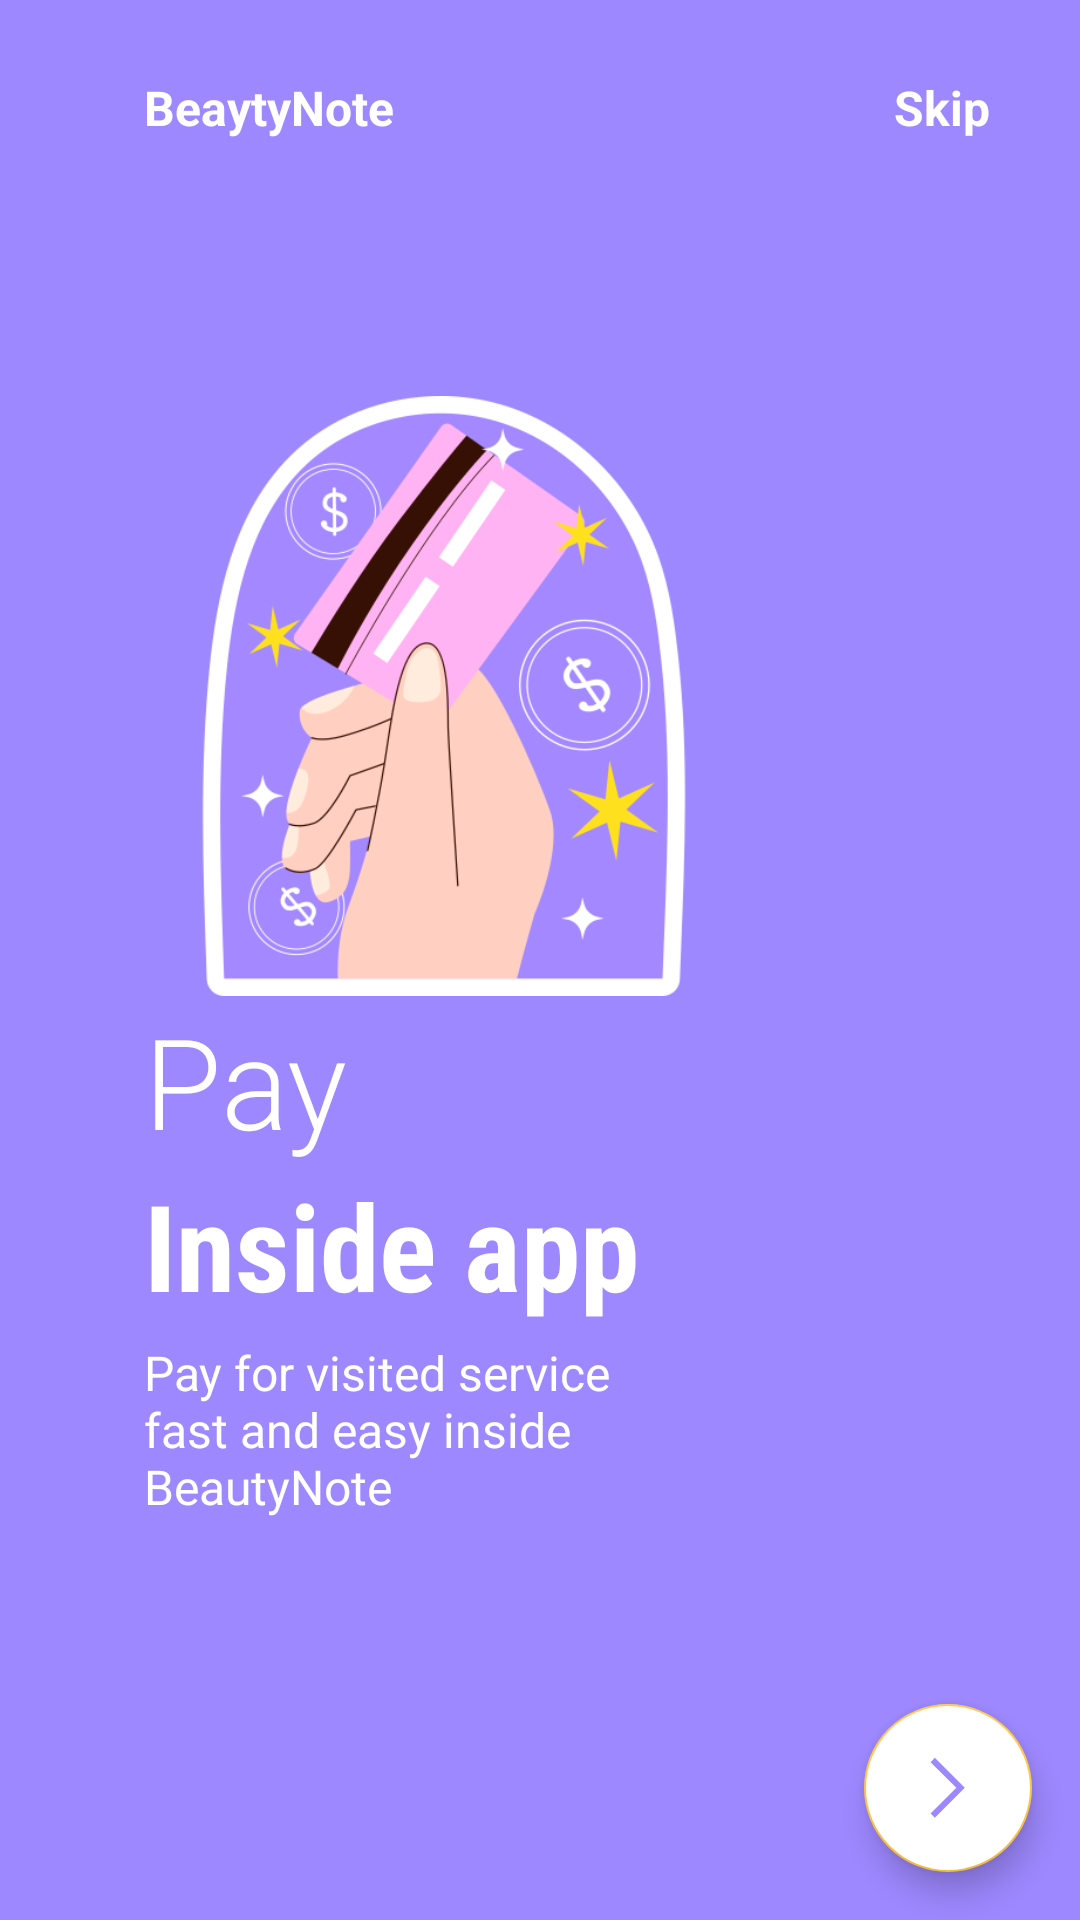

Where icons sit on this 1080px x 1920px app screen, as (x1, y1, x2, y2):
next: (864, 1704, 1032, 1872)
